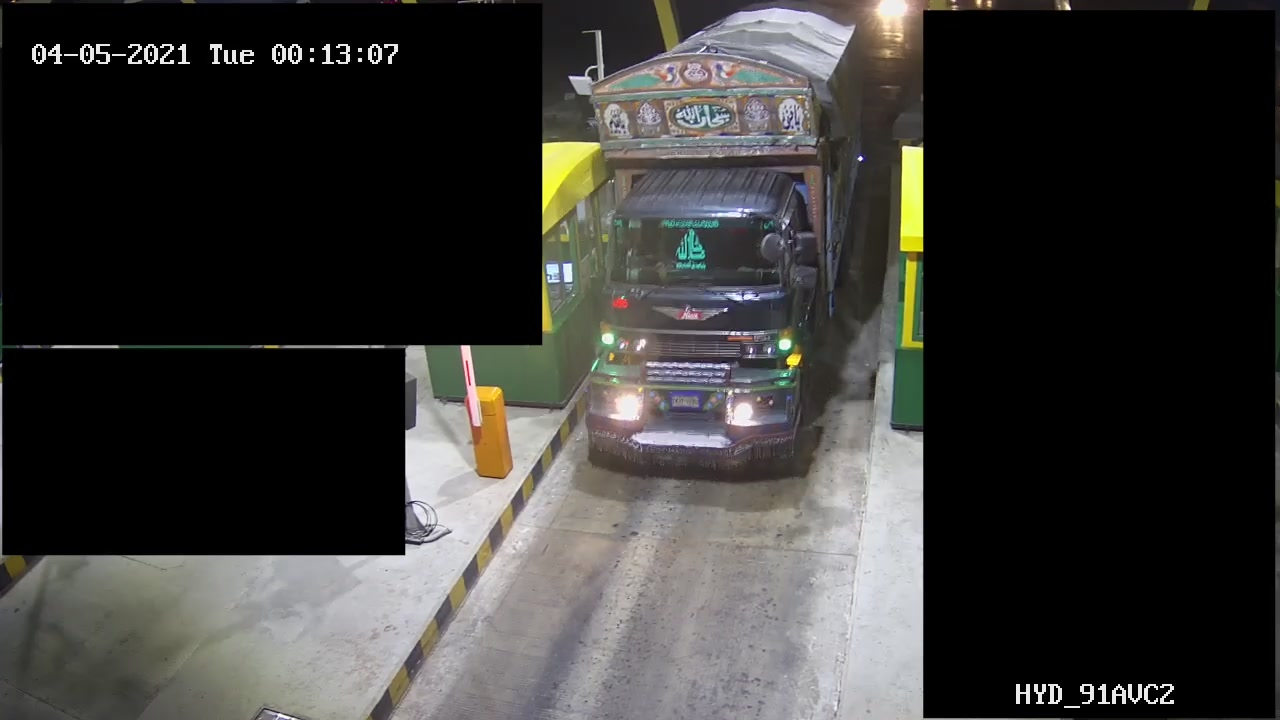F5: (563, 5, 875, 487)
